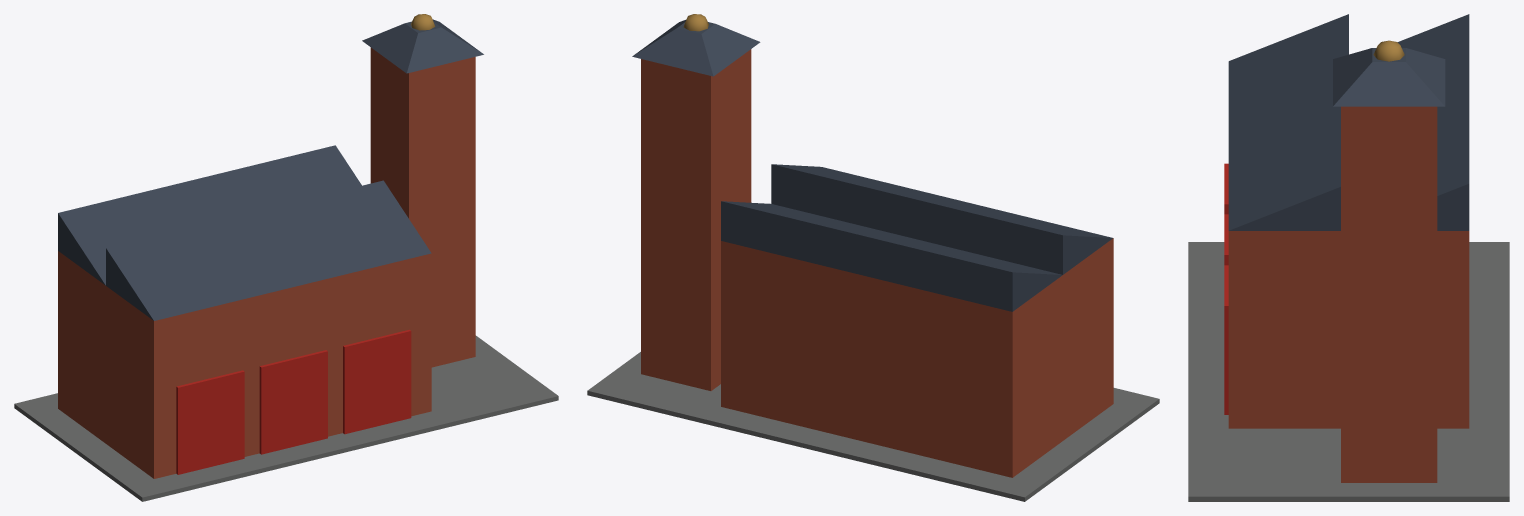
Rendered from bld_special_fire_station_a05_lod1.glb.
The picture shows the model from 3 angles, left to right: view 1: azimuth 30°, elevation 25°; view 2: azimuth 150°, elevation 25°; view 3: azimuth 270°, elevation 25°; orthographic projection. The views are drawn at different scales.
Visible parts, largest first — view 1: body; view 2: body; view 3: body.
Part boxes in pixels (bbox=[...]): body: bbox=[14, 14, 558, 501]; body: bbox=[587, 14, 1159, 501]; body: bbox=[1188, 14, 1509, 501].
Bounding box in the file's own units: 15 × 11.74 × 8.
